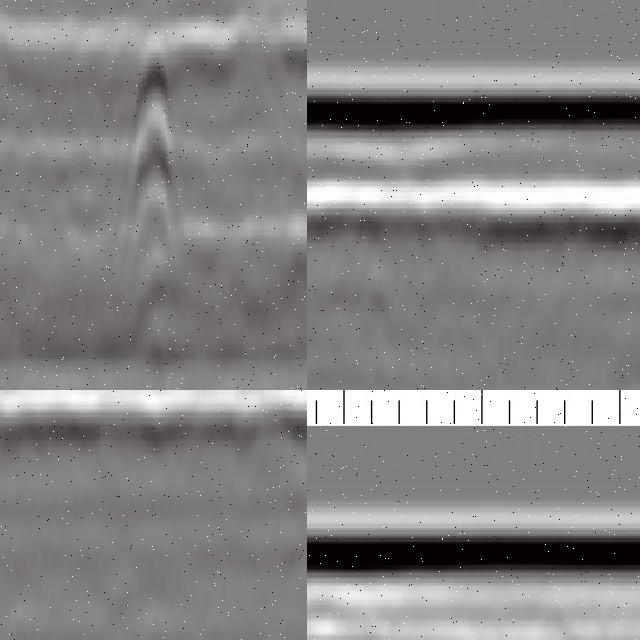crack: (123, 36, 185, 306)
